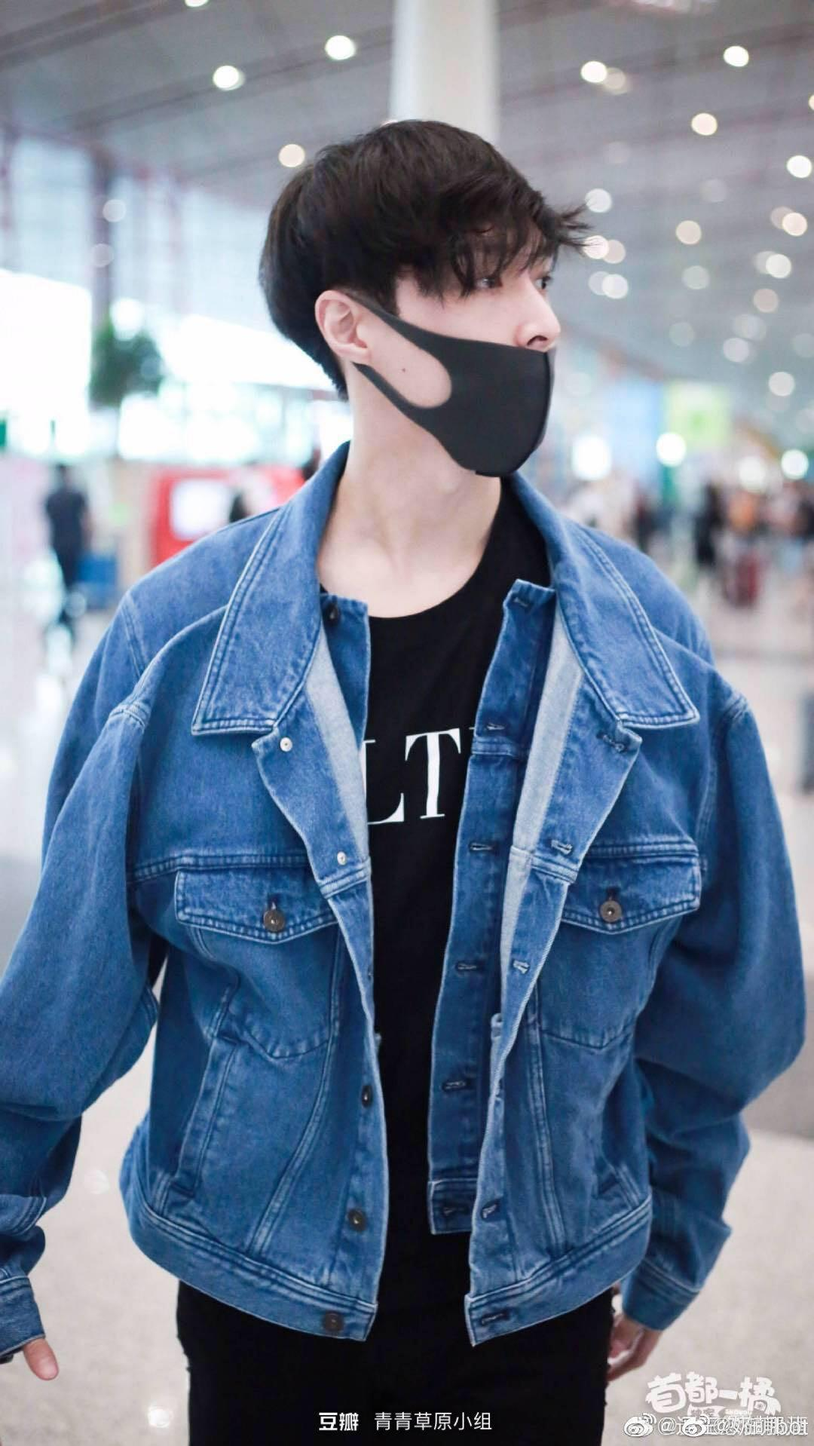WRONG: (402, 220, 563, 482)
